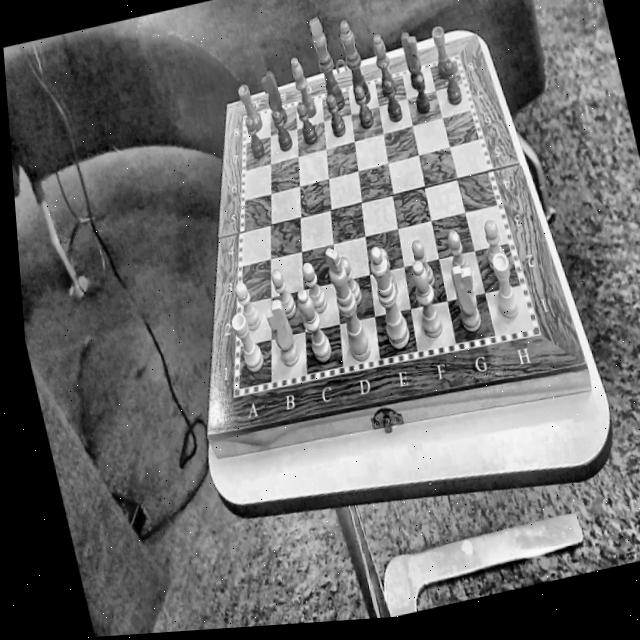chessboard: (238, 60, 533, 386)
